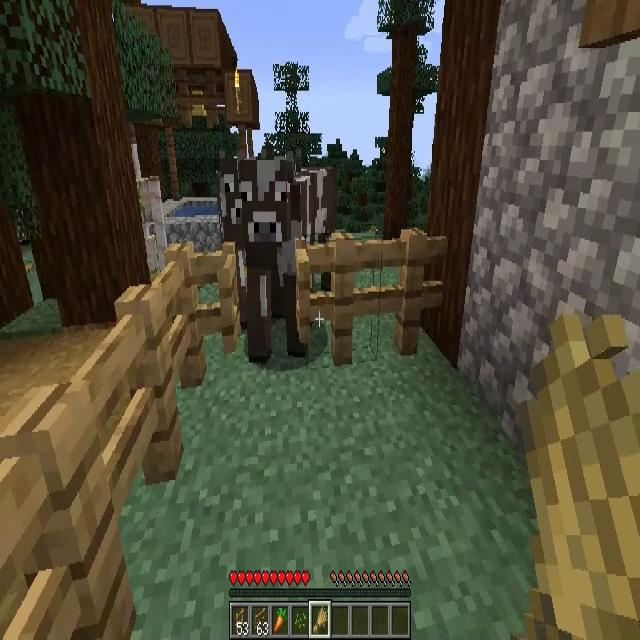cow: (242, 158, 342, 362), (214, 160, 242, 269)
